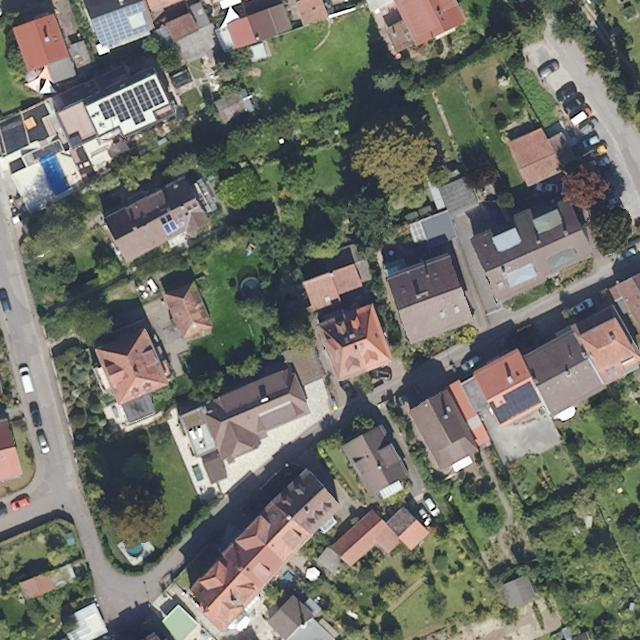PV: (97, 77, 166, 126), (91, 1, 150, 50), (488, 381, 543, 425), (158, 212, 178, 235), (466, 414, 483, 431)
